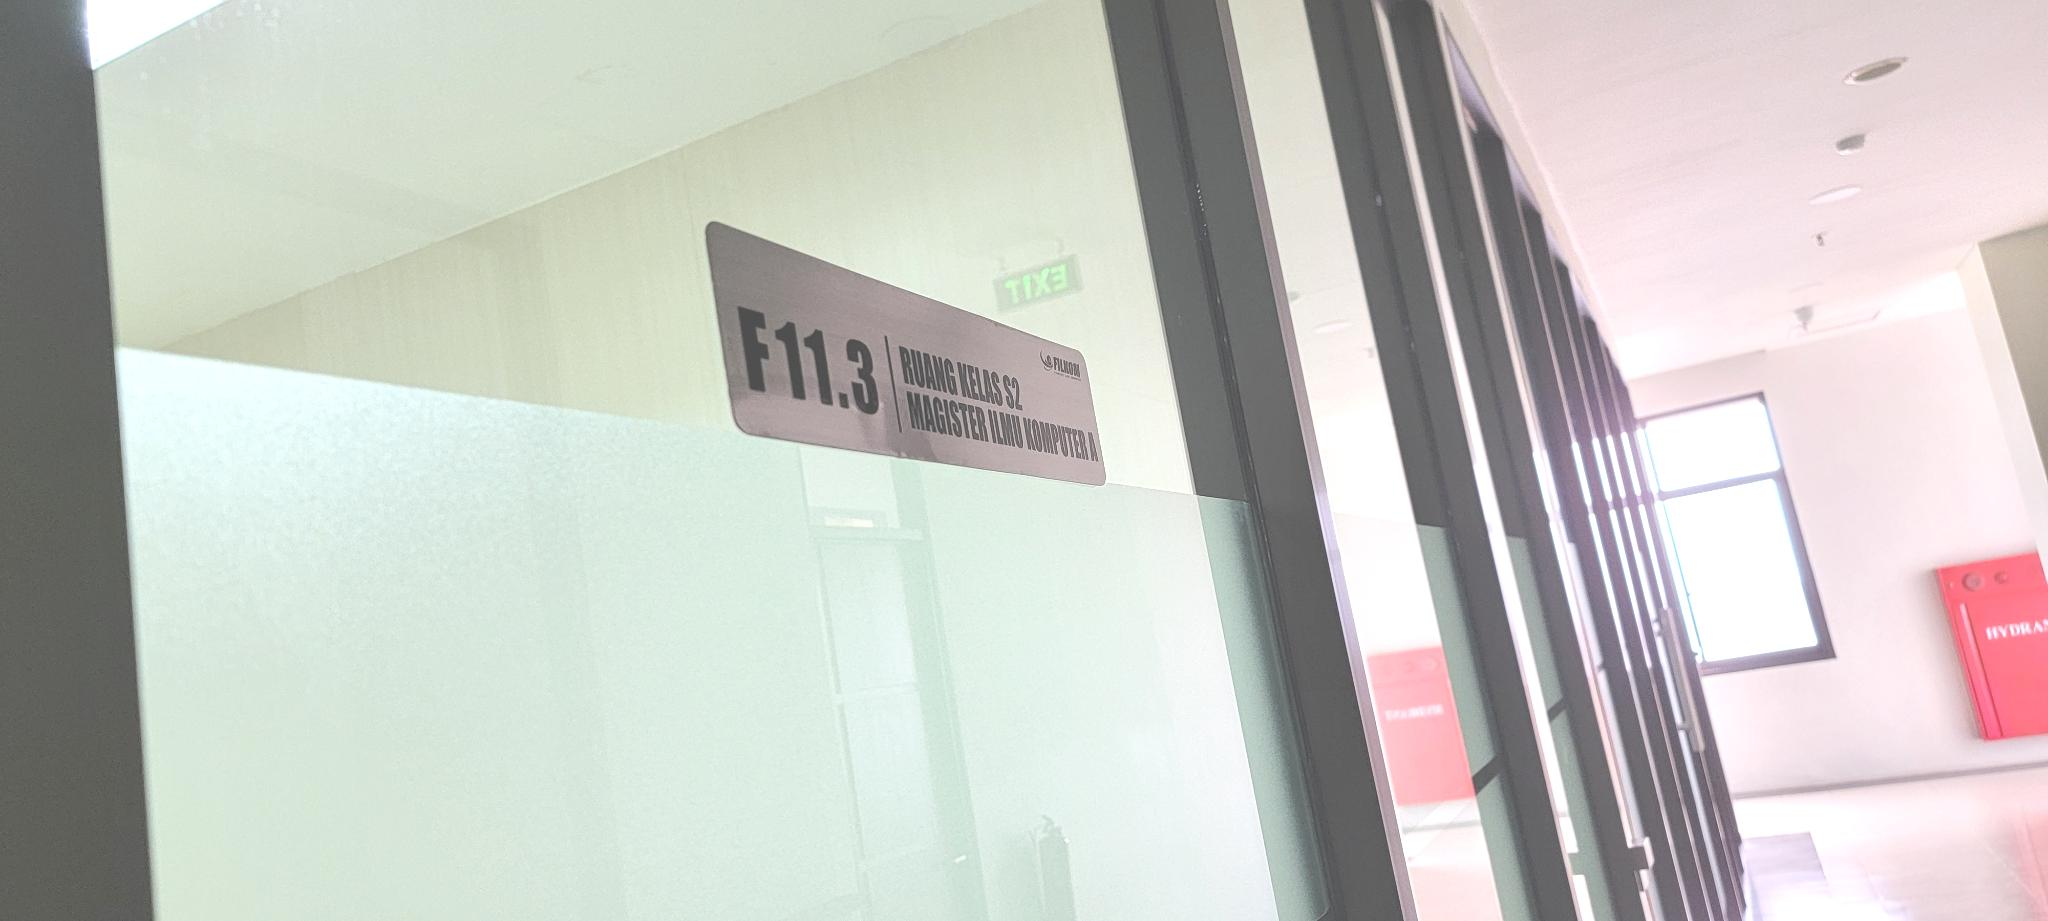plate: (704, 217, 1108, 486)
